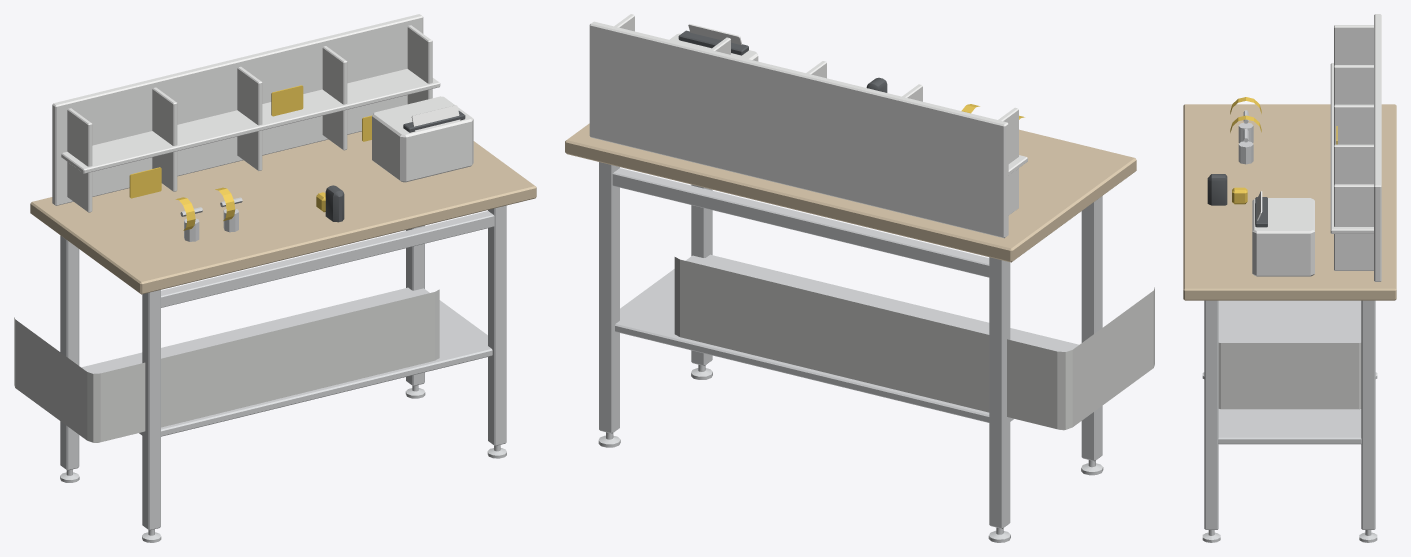
Rendered from laundrette-and-cleaning-tagging-bench-31db0890__25563.glb.
3 views of the same model, side by side, from view 1: azimuth 30°, elevation 25°; view 2: azimuth 150°, elevation 25°; view 3: azimuth 270°, elevation 25° (orthographic). The views are drawn at different scales.
Visible parts, largest first — view 1: tagging-bench; view 2: tagging-bench; view 3: tagging-bench.
Part boxes in pixels (box(x1,y1,x2,y2)): tagging-bench: box(14, 14, 536, 542); tagging-bench: box(565, 14, 1154, 542); tagging-bench: box(1183, 14, 1396, 542).
Size of the model in its own units: 1.52 by 1.26 by 0.6799.
